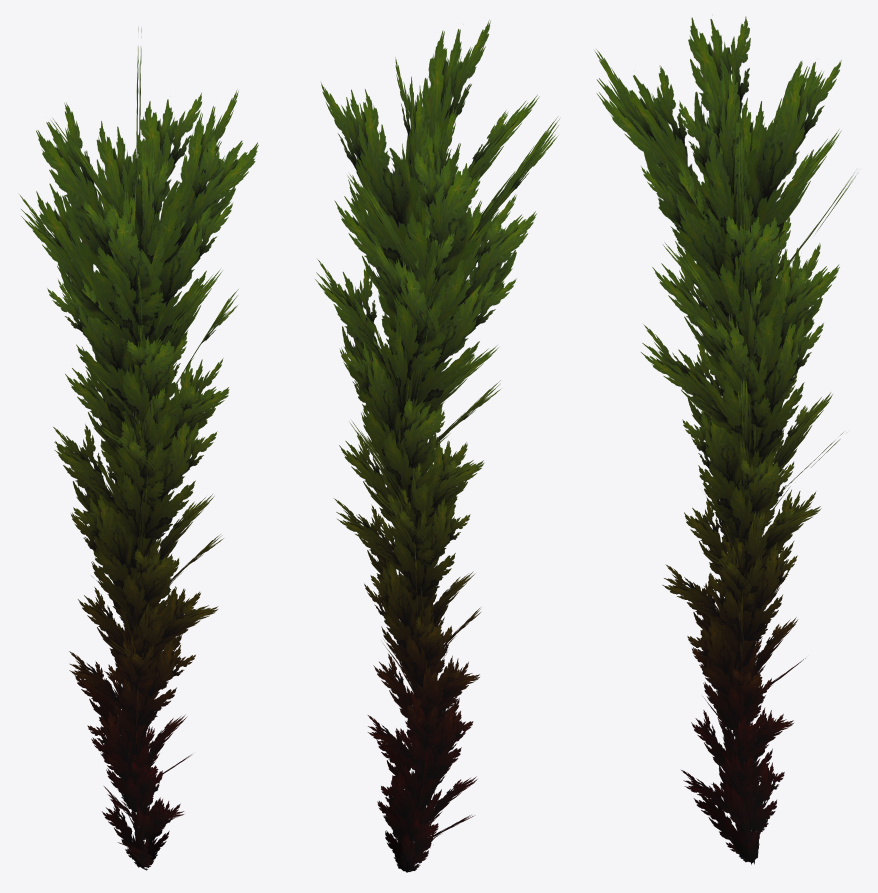
The model's file is SeaWeed02_LOD0_FattooCreater.glb.
3 renders of one model, left to right at view 1: azimuth 30°, elevation 25°; view 2: azimuth 150°, elevation 25°; view 3: azimuth 270°, elevation 25°, orthographic. The views are drawn at different scales.
Parts seen in each view (by area): view 1: SeaWeed02_high; view 2: SeaWeed02_high; view 3: SeaWeed02_high.
Part boxes in pixels (left/top/right/bottom): SeaWeed02_high: left=19, top=27, right=258, bottom=870; SeaWeed02_high: left=315, top=19, right=559, bottom=872; SeaWeed02_high: left=594, top=16, right=857, bottom=864.
Size of the model in its own units: 0.2747 by 0.8998 by 0.2652.
1 material, 1 textured.
